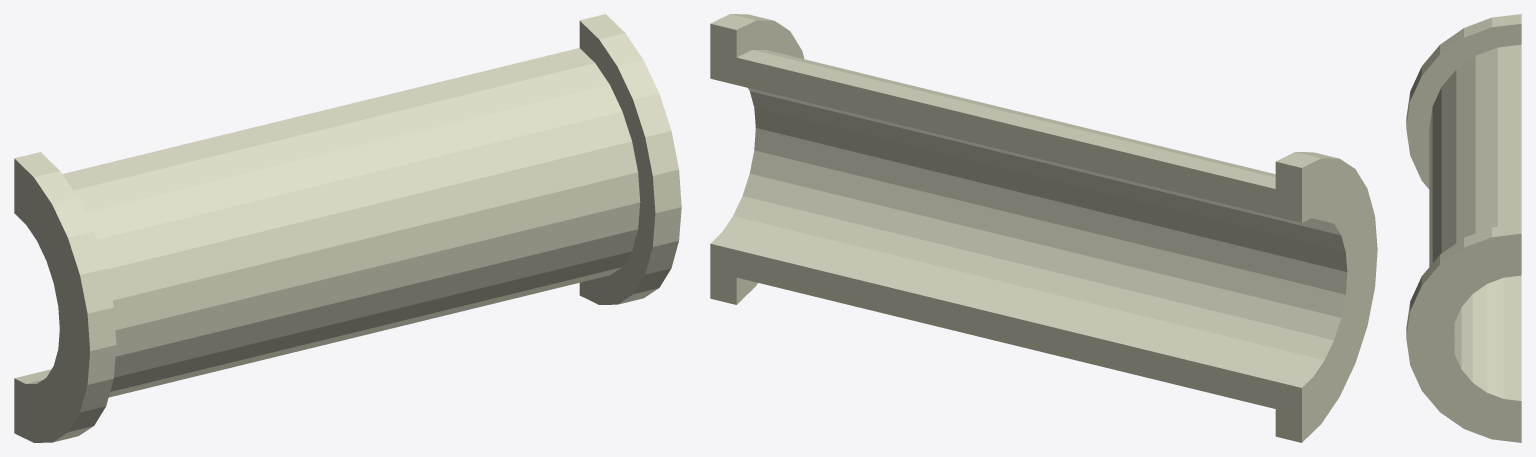
Rendered from section_177.obj.
3 renders of one model, left to right at view 1: azimuth 30°, elevation 25°; view 2: azimuth 150°, elevation 25°; view 3: azimuth 270°, elevation 25°, orthographic. The views are drawn at different scales.
Bounding box in the file's own units: 22.51 × 10 × 5.
